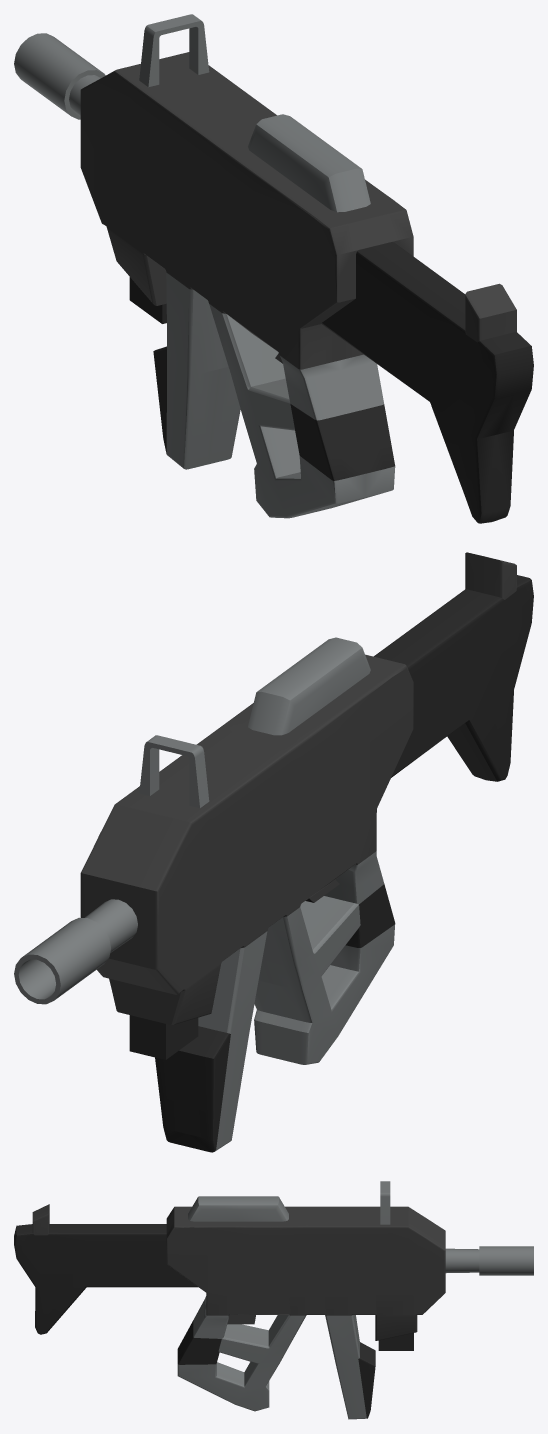
The model's file is Gun2.fbx.
The picture shows the model from 3 angles, top to bottom: view 1: azimuth 30°, elevation 25°; view 2: azimuth 150°, elevation 25°; view 3: azimuth 270°, elevation 25°; orthographic projection. The views are drawn at different scales.
Parts seen in each view (by area): view 1: Gun2; view 2: Gun2; view 3: Gun2.
Boxes of the visible parts, box(x1,y1,x2,y2) form: Gun2: box(14, 14, 533, 523); Gun2: box(14, 552, 533, 1152); Gun2: box(14, 1181, 533, 1419).
Size of the model in its own units: 1 by 5.1 by 10.61.
